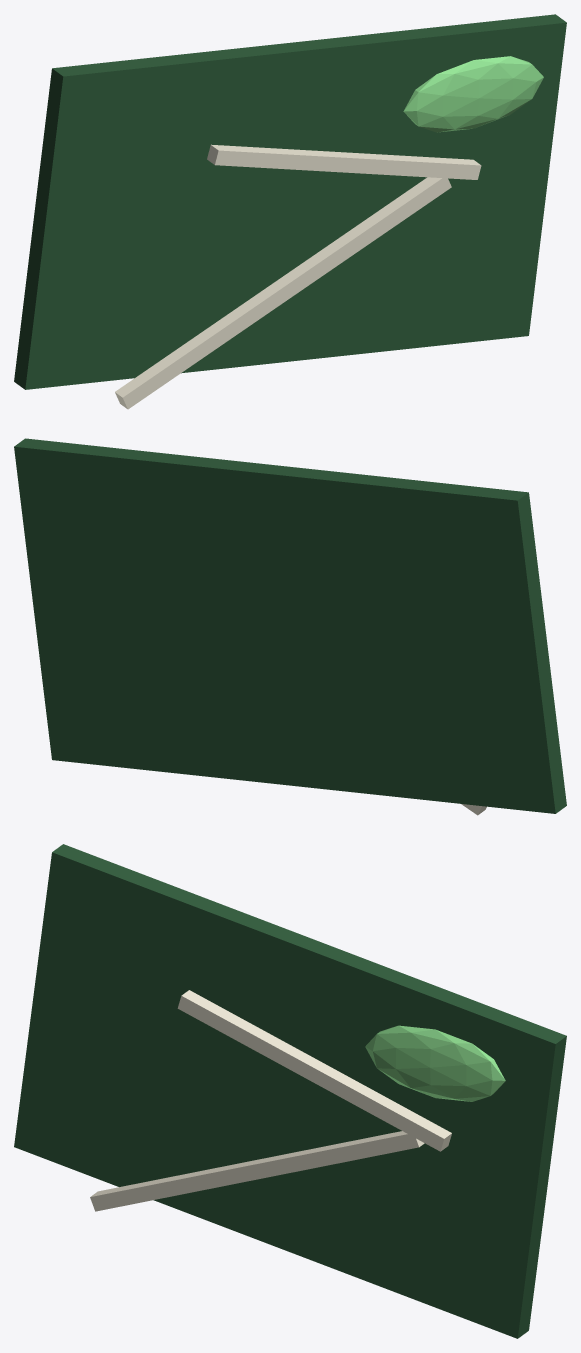
The model's file is 05_weathering_wear_overlay_5.glb.
3 views of the same model, one above another, from view 1: azimuth 30°, elevation 25°; view 2: azimuth 150°, elevation 25°; view 3: azimuth 330°, elevation 25° (orthographic).
Parts seen in each view (by area): view 1: wear_plate, scratch_a, rust_or_moss_spot, scratch_b; view 2: wear_plate; view 3: wear_plate, rust_or_moss_spot, scratch_b, scratch_a.
Part boxes in pixels (x1,y1,x2,y2): wear_plate: (14,14,566,389); scratch_a: (115,177,451,409); rust_or_moss_spot: (403,56,543,132); scratch_b: (207,144,481,179); wear_plate: (14,438,566,813); wear_plate: (14,844,566,1338); rust_or_moss_spot: (365,1025,505,1101); scratch_b: (177,990,451,1151); scratch_a: (90,1131,424,1211).
Bounding box in the file's own units: 1.39 × 0.9123 × 0.134.
